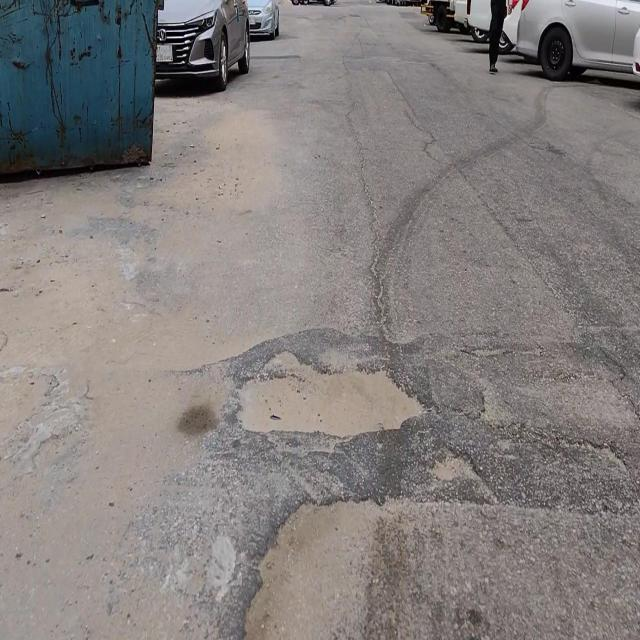Pothole: (240, 488, 378, 640), (232, 348, 427, 444)
